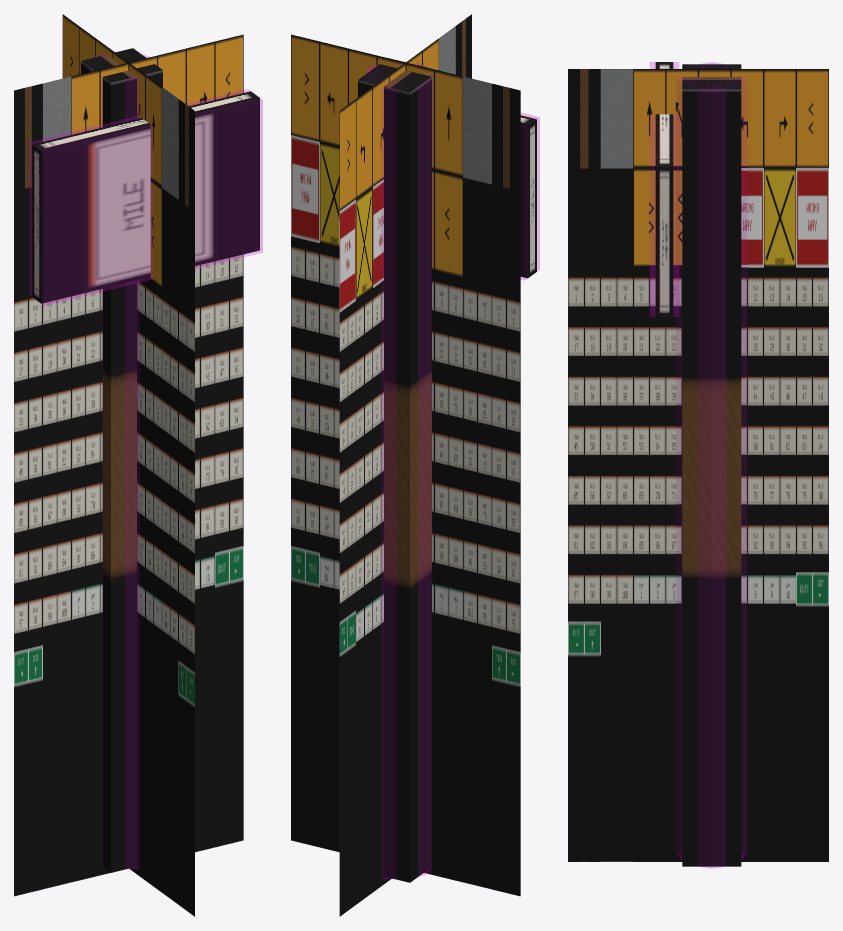
The model's file is milemarker_040.dae.
3 views of the same model, side by side, from view 1: azimuth 30°, elevation 25°; view 2: azimuth 150°, elevation 25°; view 3: azimuth 270°, elevation 25° (orthographic).
Visible parts, largest first — view 1: milemarker_040_a50, milemarker_040_a800, Colmesh_sign-1, milemarker_040_a200, Colmesh_post-1; view 2: milemarker_040_a50, milemarker_040_a800, Colmesh_post-1, milemarker_040_a200, Colmesh_sign-1; view 3: milemarker_040_a50, milemarker_040_a800, Colmesh_post-1, Colmesh_sign-1.
Part boxes in pixels (x1=…): milemarker_040_a50: x1=14, y1=14, x2=243, y2=916; milemarker_040_a800: x1=32, y1=48, x2=259, y2=872; Colmesh_sign-1: x1=29, y1=89, x2=262, y2=305; milemarker_040_a200: x1=102, y1=56, x2=159, y2=866; Colmesh_post-1: x1=89, y1=53, x2=148, y2=869; milemarker_040_a50: x1=291, y1=14, x2=520, y2=916; milemarker_040_a800: x1=358, y1=58, x2=536, y2=882; Colmesh_post-1: x1=366, y1=61, x2=431, y2=878; milemarker_040_a200: x1=379, y1=66, x2=431, y2=879; Colmesh_sign-1: x1=521, y1=113, x2=539, y2=280; milemarker_040_a50: x1=568, y1=69, x2=828, y2=861; milemarker_040_a800: x1=655, y1=62, x2=741, y2=866; Colmesh_post-1: x1=677, y1=62, x2=746, y2=868; Colmesh_sign-1: x1=650, y1=62, x2=678, y2=316.
Bounding box in the file's own units: 0.441 × 0.441 × 1.48.
2 materials, 1 textured.
